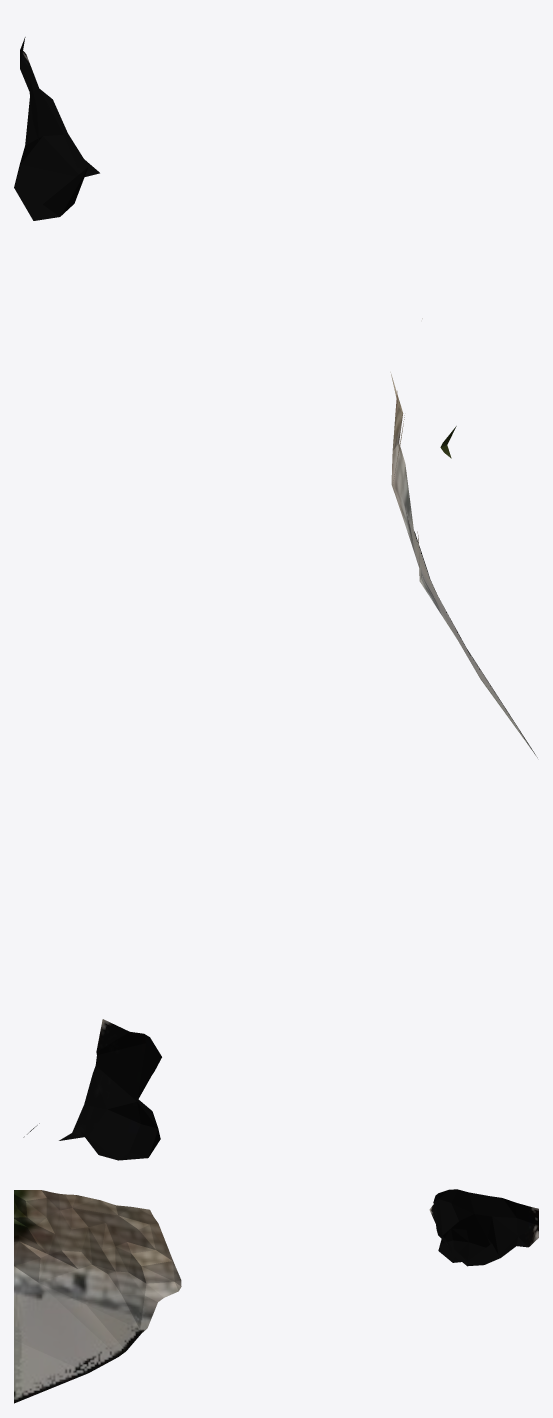
3 renders of one model, top to bottom at view 1: azimuth 30°, elevation 25°; view 2: azimuth 150°, elevation 25°; view 3: azimuth 270°, elevation 25°, orthographic. The views are drawn at different scales.
Bounding box in the file's own units: 0.4542 × 1.36 × 3.35.
1 material, 1 textured.
